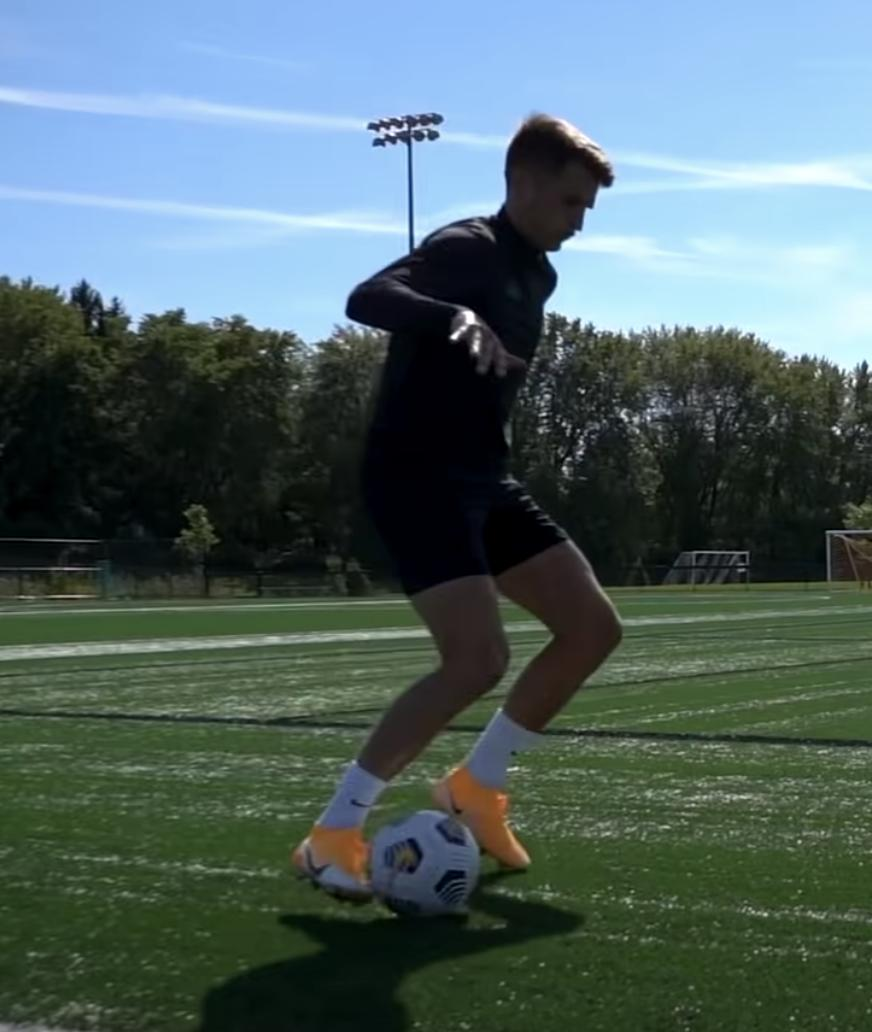ball: (366, 804, 480, 914)
foot: (436, 755, 524, 870), (294, 818, 382, 904)
person: (303, 115, 627, 904)
